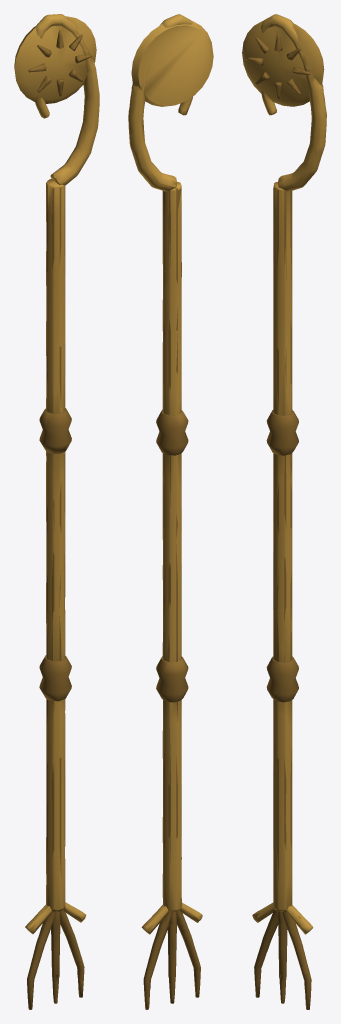
The model's file is ember_toasting_fork.glb.
3 renders of one model, left to right at view 1: azimuth 30°, elevation 25°; view 2: azimuth 210°, elevation 25°; view 3: azimuth 330°, elevation 25°, orthographic.
Visible parts, largest first — view 1: ember_toasting_fork; view 2: ember_toasting_fork; view 3: ember_toasting_fork.
Boxes of the visible parts, x1,y1,x2,y2 form: ember_toasting_fork: (14,14,99,1009); ember_toasting_fork: (128,14,213,1009); ember_toasting_fork: (242,14,326,1009).
Size of the model in its own units: 5.34 by 60.04 by 1.8.
